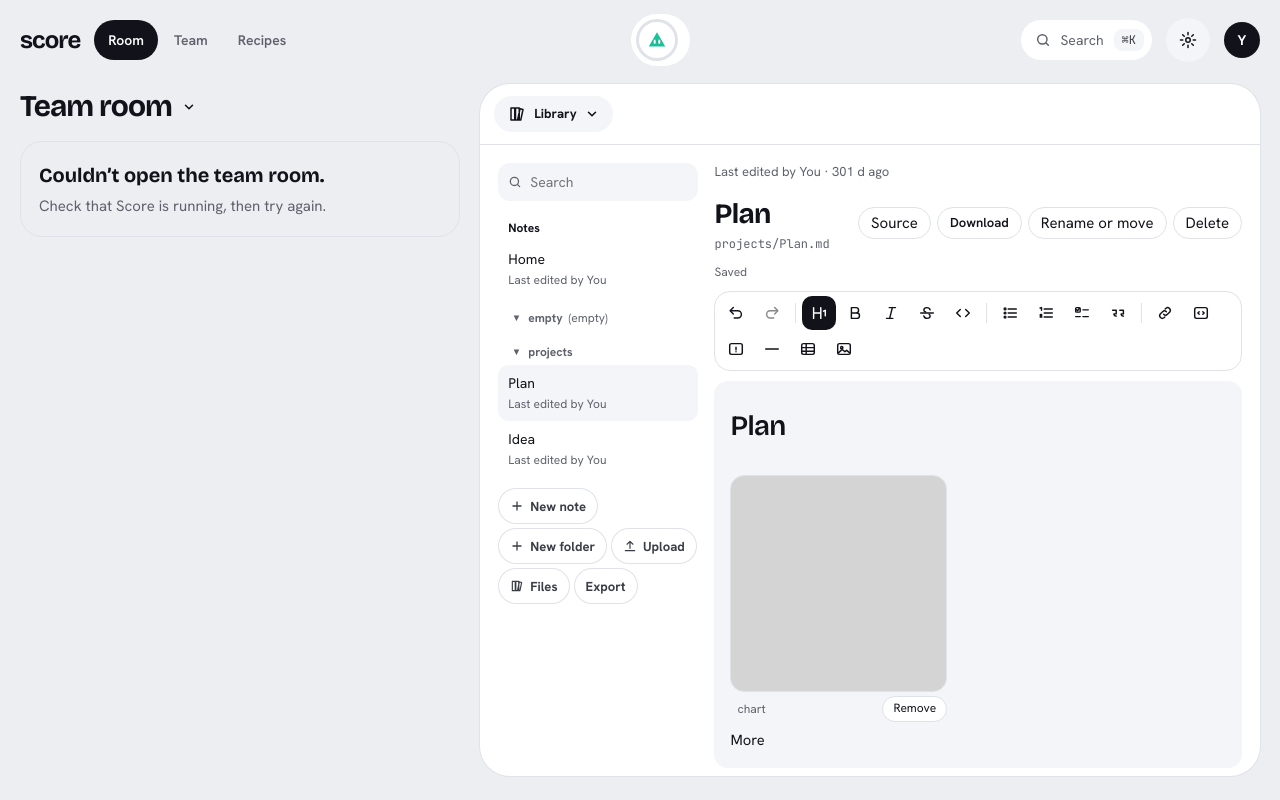
Test: a note with an embedded image shows the picture, never the data, and saves it unchanged
Source collapses it to a chip.
Click the button "Source".
click(895, 223)  # box 858,207 -> 931,239
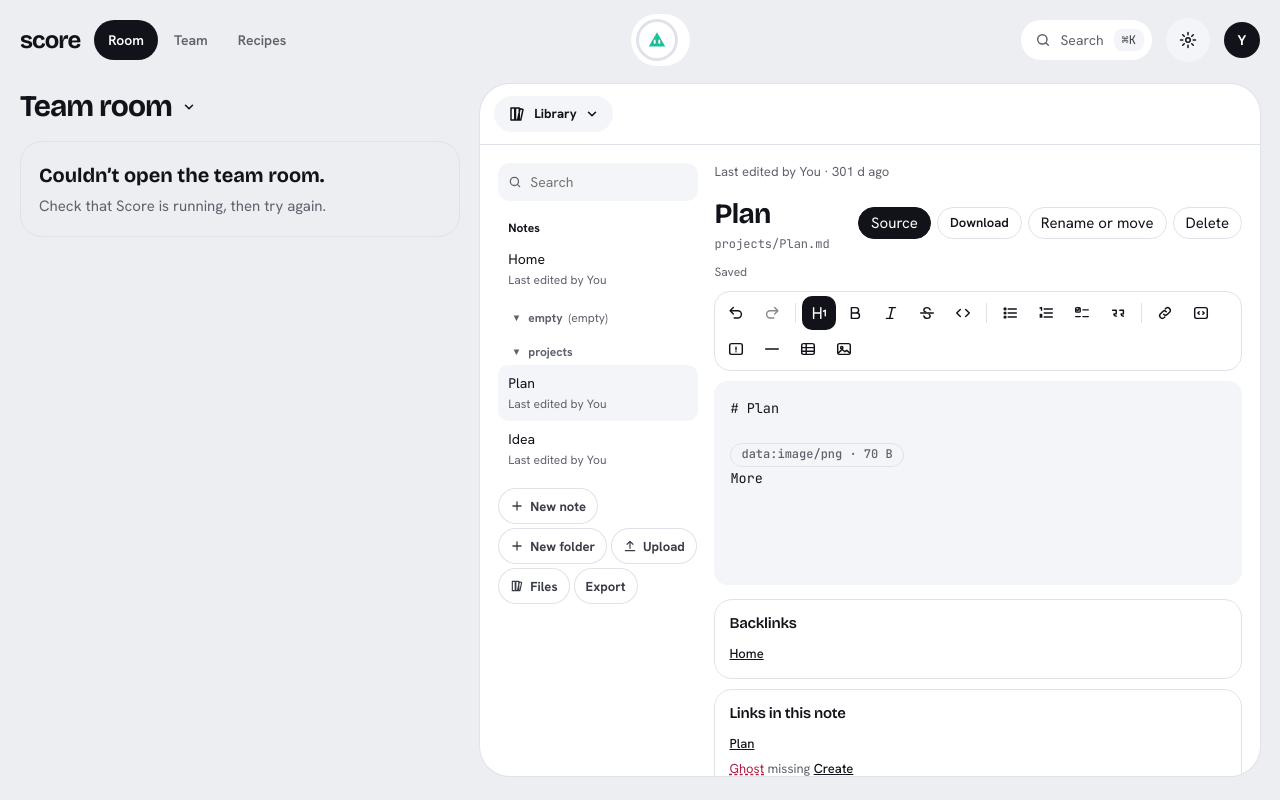
Check: the button with class "cm-lp-image-chip" reads "d ata:image/png · 70 B", box 730,443 -> 904,467
